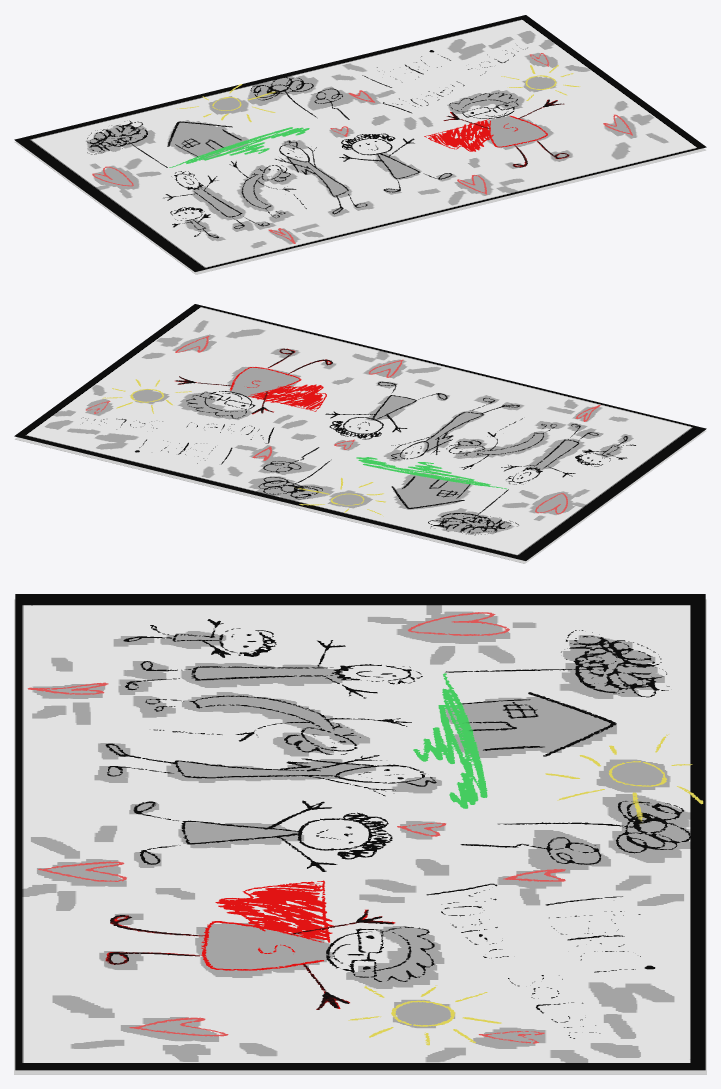
File: asset_objet_dessin_enfant.fbx
3 views of the same model, one above another, from view 1: azimuth 30°, elevation 25°; view 2: azimuth 150°, elevation 25°; view 3: azimuth 270°, elevation 25° (orthographic). The views are drawn at different scales.
Parts seen in each view (by area): view 1: couleur, line, feuille blanche; view 2: couleur, line, feuille blanche; view 3: couleur, line, feuille blanche.
Boxes of the visible parts, box(x1,y1,x2,y2) form: couleur: box(14, 15, 706, 271); line: box(87, 45, 632, 243); feuille blanche: box(14, 141, 706, 274); couleur: box(14, 304, 706, 560); line: box(81, 336, 635, 535); feuille blanche: box(14, 430, 706, 563); couleur: box(15, 594, 705, 1070); line: box(27, 612, 703, 1045); feuille blanche: box(14, 599, 706, 1074).
Bounding box in the file's own units: 54.63 × 0.3436 × 33.58.
